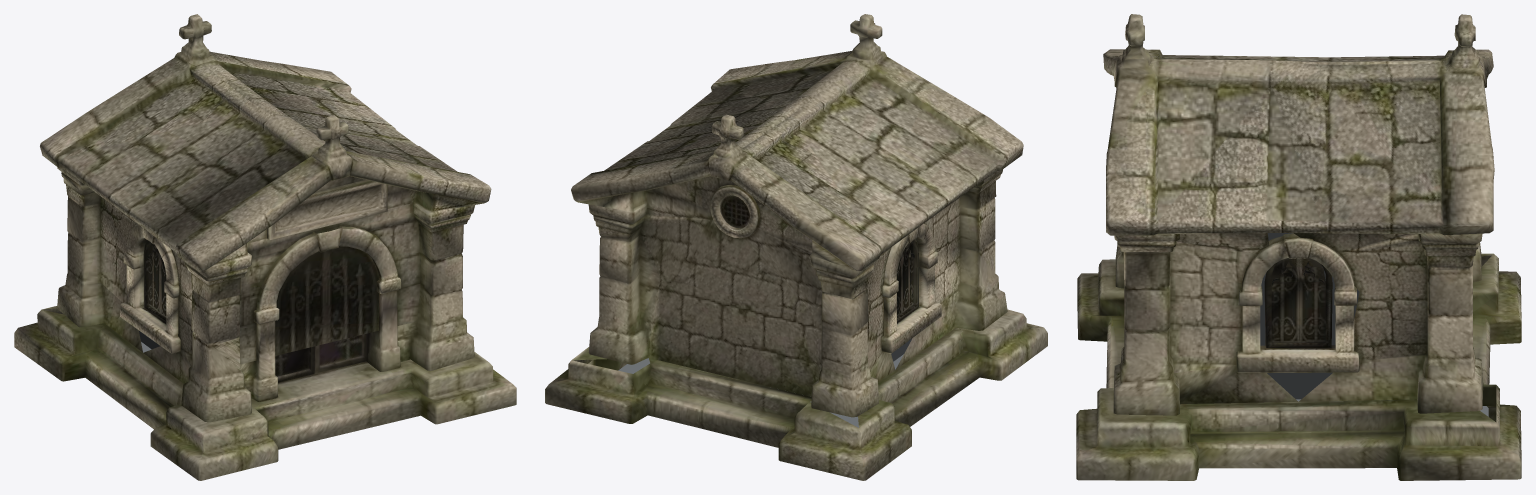
File: mausoleu.glb
3 renders of one model, left to right at view 1: azimuth 30°, elevation 25°; view 2: azimuth 150°, elevation 25°; view 3: azimuth 270°, elevation 25°, orthographic. The views are drawn at different scales.
Visible parts, largest first — view 1: tripo_node_86c23c08-99e4-49d9-b201-48ea82df365b; view 2: tripo_node_86c23c08-99e4-49d9-b201-48ea82df365b; view 3: tripo_node_86c23c08-99e4-49d9-b201-48ea82df365b, mausoleu-interior-masonry.
Part boxes in pixels (x1,y1,x2,y2): tripo_node_86c23c08-99e4-49d9-b201-48ea82df365b: (14,14,516,480); tripo_node_86c23c08-99e4-49d9-b201-48ea82df365b: (545,14,1047,480); tripo_node_86c23c08-99e4-49d9-b201-48ea82df365b: (1076,14,1521,480); mausoleu-interior-masonry: (1260,233,1359,399).
Size of the model in its own units: 0.9941 by 0.916 by 0.998.
Materials: 3 (1 with a texture image).
